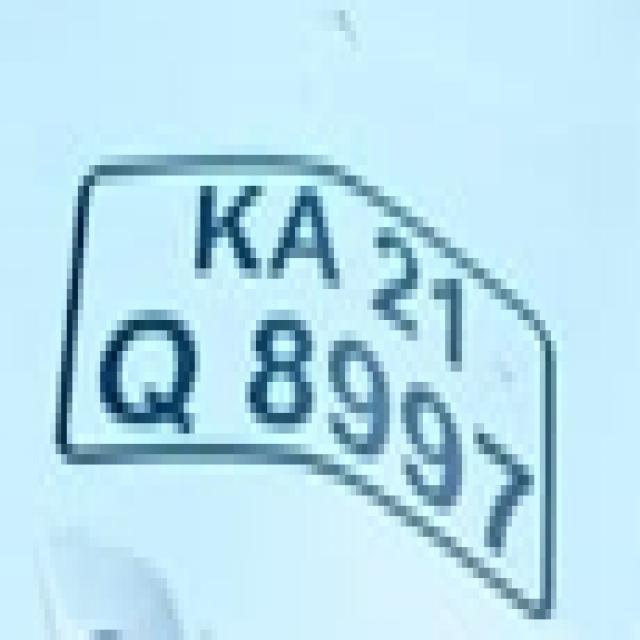1: (424, 239, 474, 379)
7: (464, 394, 545, 587)
8: (241, 304, 319, 442)
9: (391, 352, 474, 532), (324, 313, 398, 486)
A: (265, 165, 348, 298)
K: (191, 167, 266, 291)
Q: (91, 295, 202, 449)
